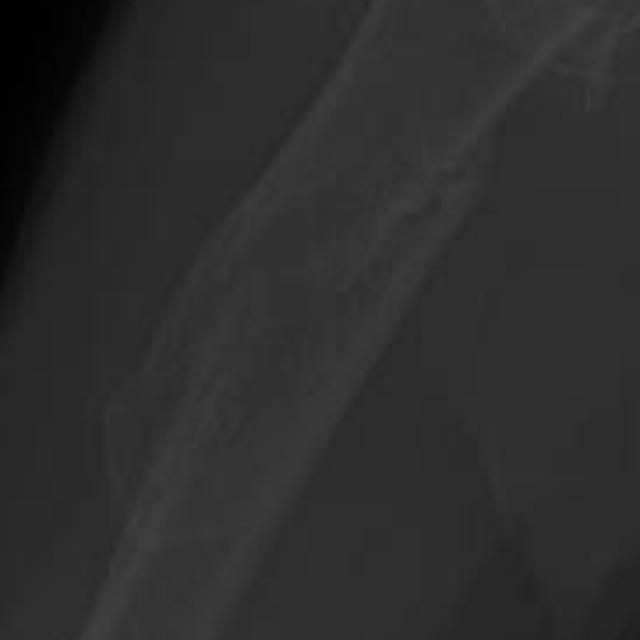fracture: (0, 1, 640, 640)
